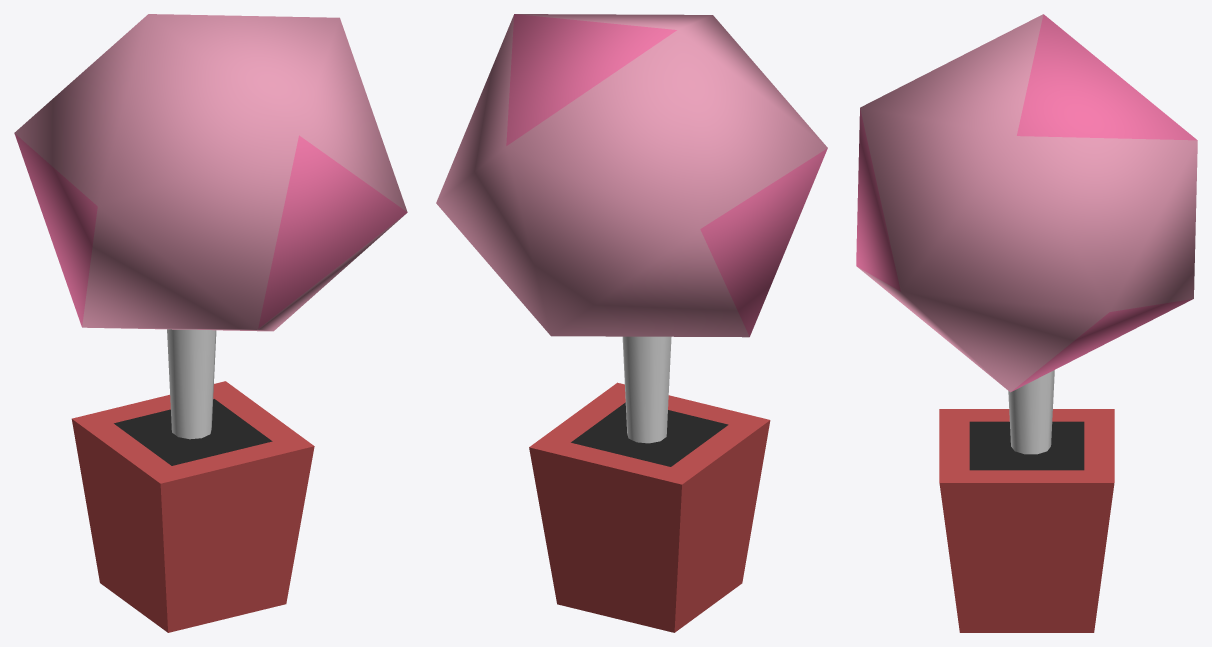
File: Artificial flowerpot.fbx
3 renders of one model, left to right at view 1: azimuth 30°, elevation 25°; view 2: azimuth 150°, elevation 25°; view 3: azimuth 270°, elevation 25°, orthographic.
Parts seen in each view (by area): view 1: Artificial flowerpot; view 2: Artificial flowerpot; view 3: Artificial flowerpot.
Boxes of the visible parts, x1,y1,x2,y2 form: Artificial flowerpot: (14,14,407,632); Artificial flowerpot: (436,14,827,632); Artificial flowerpot: (856,14,1197,632).
Size of the model in its own units: 102 by 183 by 99.07.
